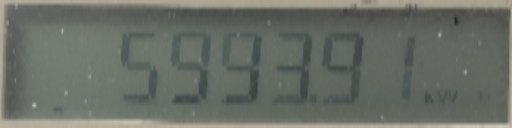1: (397, 29, 418, 109)
3: (265, 26, 313, 105)
5: (118, 14, 164, 110)
9: (216, 19, 268, 112), (164, 24, 214, 112), (322, 24, 367, 107)
d: (310, 95, 326, 111)
